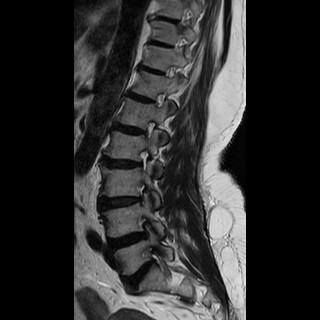LFS0: (131, 144, 157, 176), (136, 115, 161, 143)
LFS2: (130, 178, 155, 209)
